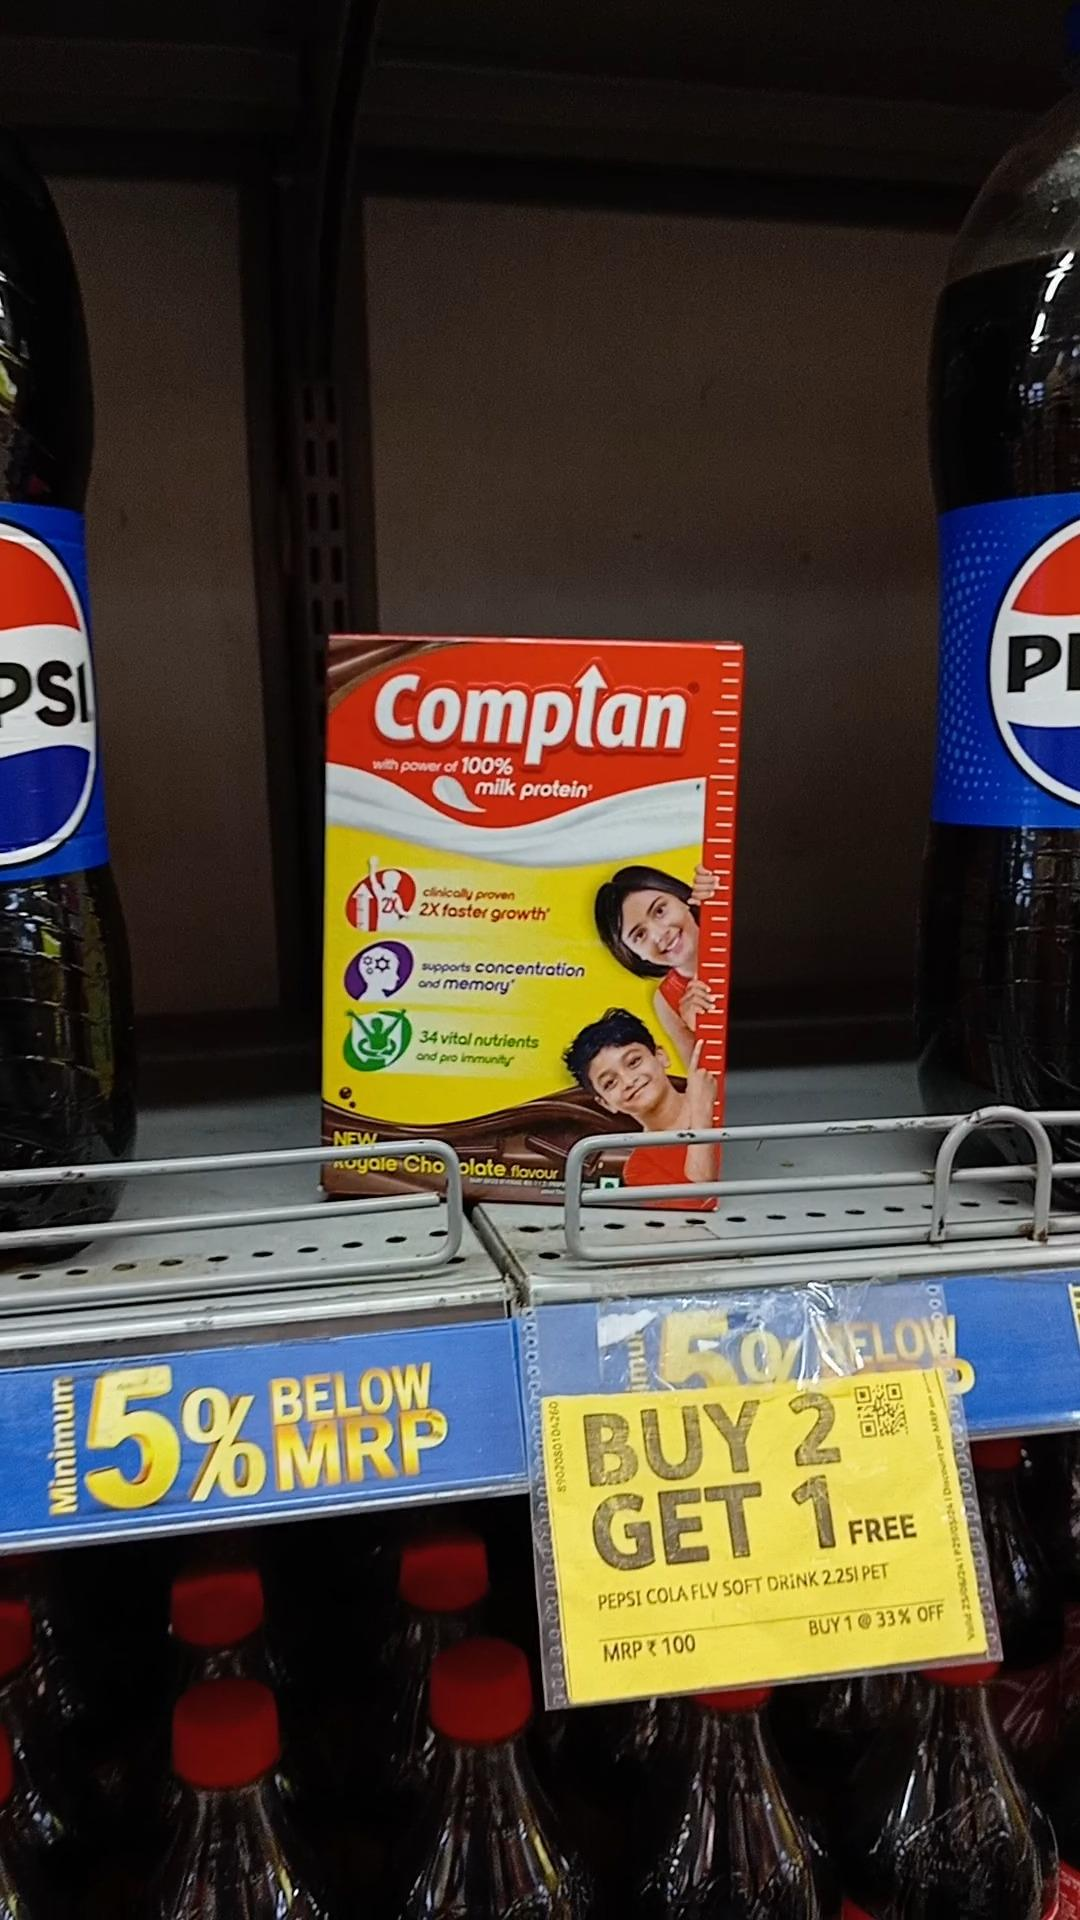COMPLAN_CHOCOLATE_200_GMS_PACK: (319, 630, 746, 1205)
